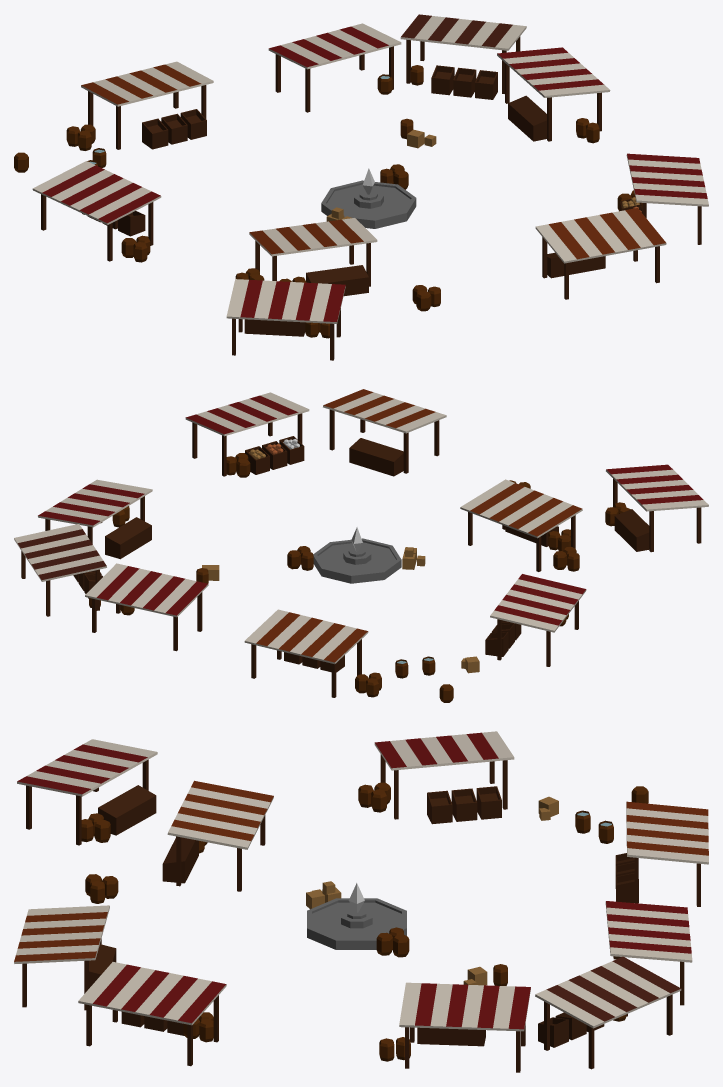
The model's file is MarketBuildPhase2v1.fbx.
The picture shows the model from 3 angles, top to bottom: view 1: azimuth 30°, elevation 25°; view 2: azimuth 150°, elevation 25°; view 3: azimuth 270°, elevation 25°; orthographic projection. The views are drawn at different scales.
Parts seen in each view (by area): view 1: Circle.051; view 2: Circle.051; view 3: Circle.051.
Part boxes in pixels (box(x1,y1,x2,y2)): Circle.051: box(14, 14, 708, 360); Circle.051: box(14, 389, 708, 702); Circle.051: box(14, 731, 708, 1072).
Size of the model in its own units: 414 by 35.65 by 408.
